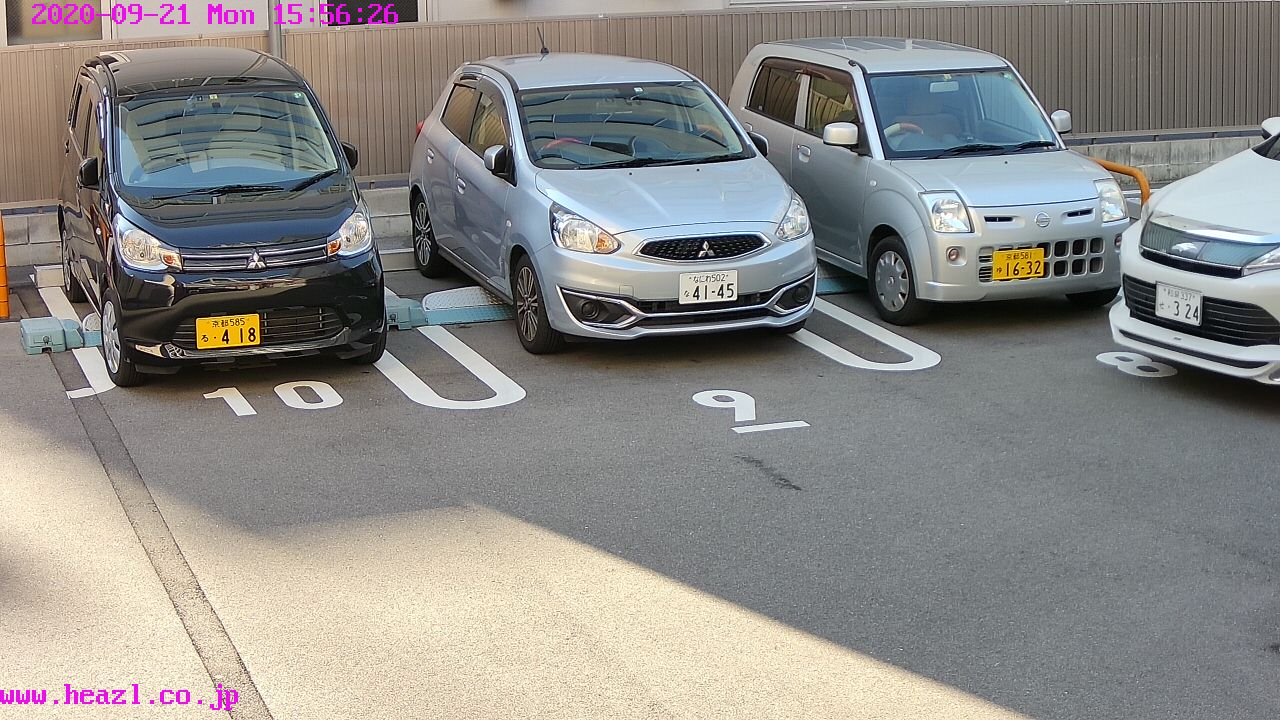number_plate: (1156, 280, 1204, 327), (680, 269, 740, 303), (192, 316, 262, 345), (991, 248, 1049, 277)
